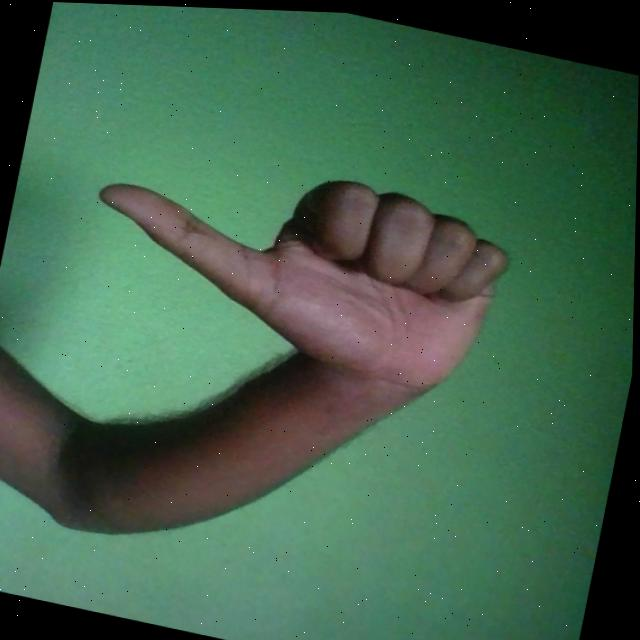Dislike: (72, 127, 523, 406)
